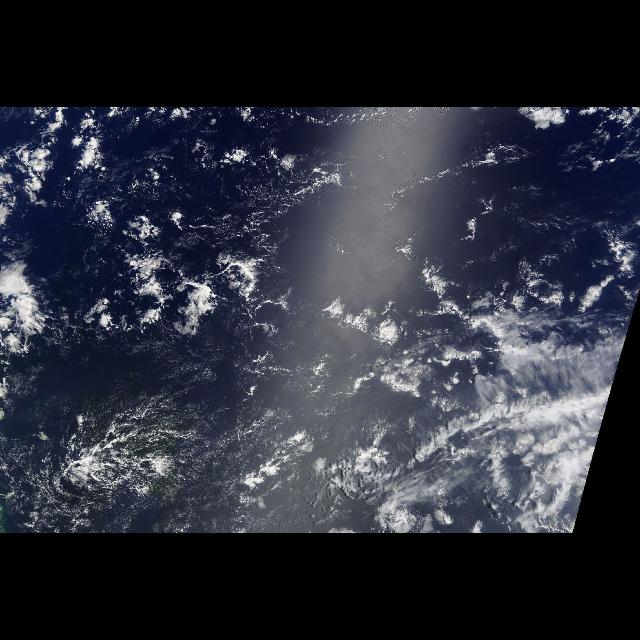Fish: (337, 373, 618, 497)
Gravel: (33, 399, 187, 527)
Sugar: (152, 397, 314, 529)
